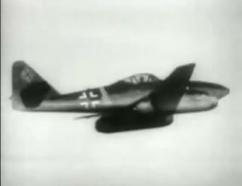aircraft: (11, 60, 231, 133)
